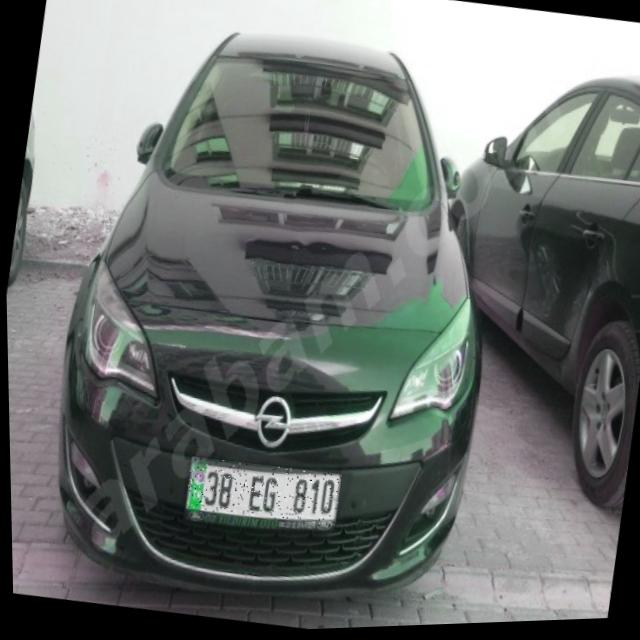license_plate: (182, 453, 340, 533)
